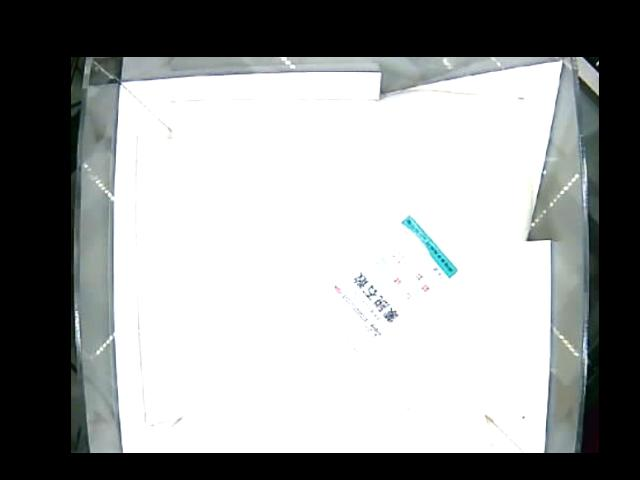Medicine: (316, 207, 485, 370)
